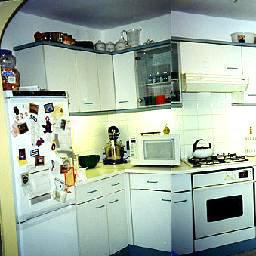Electrodomestico: (3, 98, 78, 253), (192, 156, 250, 250)
